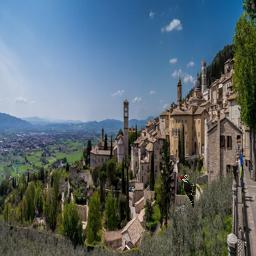Woodpecker: (179, 174, 196, 211)
